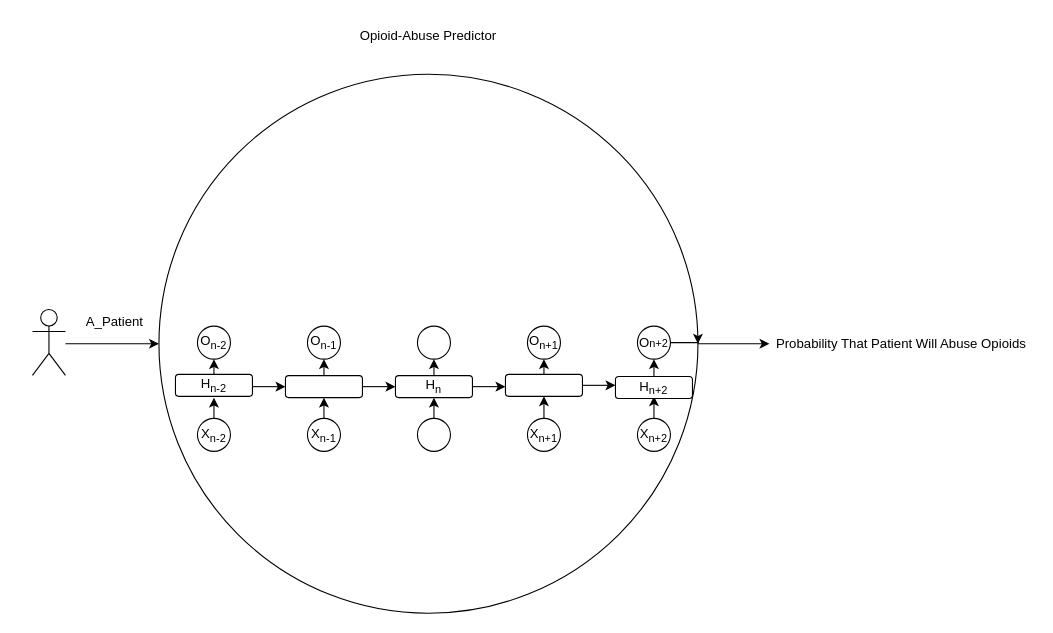
This 1053x633 diagram has some shape labels left out. The shapes that lost their labels are listed below. From the top down, each one's centre as x and y in pixels, then its label:
At (48,341): "Requester".
At (433,342): "O n".
At (323,386): "H n-1".
At (543,384): "H n+1".
At (433,434): "X n".
